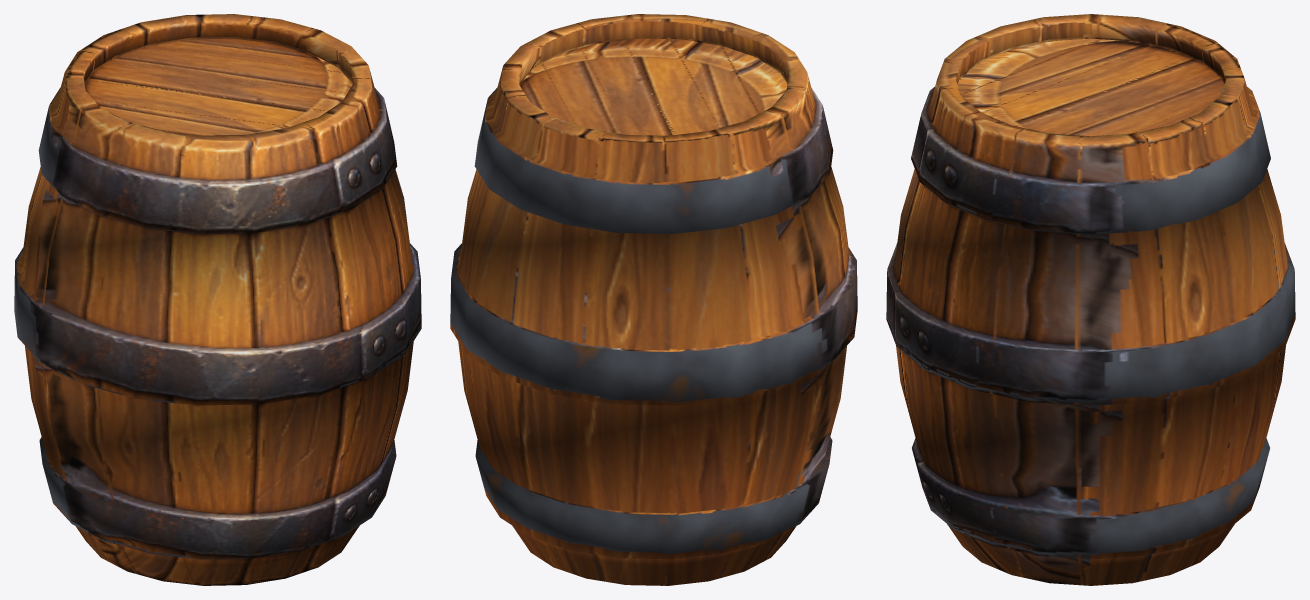
The model's file is barrel.glb.
The picture shows the model from 3 angles, left to right: view 1: azimuth 30°, elevation 25°; view 2: azimuth 150°, elevation 25°; view 3: azimuth 270°, elevation 25°; orthographic projection.
Parts seen in each view (by area): view 1: barrel; view 2: barrel; view 3: barrel.
Part boxes in pixels (x1,y1,x2,y2): barrel: [14, 14, 421, 585]; barrel: [450, 14, 857, 585]; barrel: [886, 14, 1295, 585].
Bounding box in the file's own units: 0.8244 × 1 × 0.8244.
Materials: 1 (1 with a texture image).
